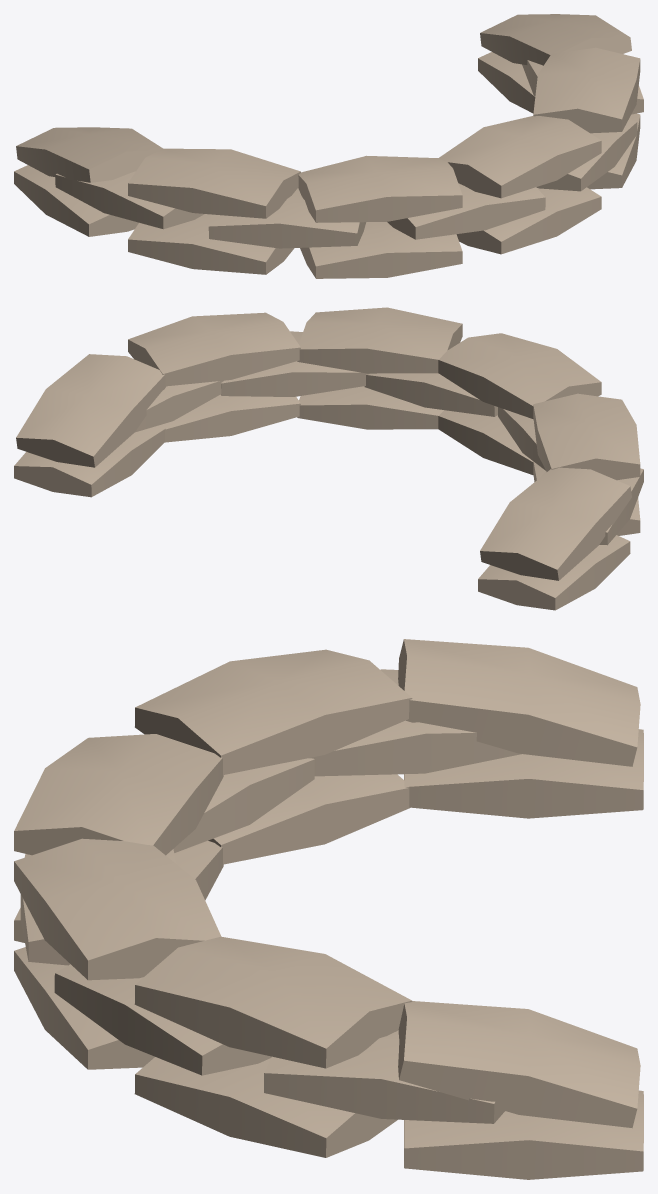
Rendered from fb_FoxholeSandbags.glb.
The picture shows the model from 3 angles, top to bottom: view 1: azimuth 30°, elevation 25°; view 2: azimuth 150°, elevation 25°; view 3: azimuth 270°, elevation 25°; orthographic projection. The views are drawn at different scales.
Visible parts, largest first — view 1: fb_FoxholeSandbags; view 2: fb_FoxholeSandbags; view 3: fb_FoxholeSandbags.
Boxes of the visible parts, left/top/right/bottom form: fb_FoxholeSandbags: left=14, top=14, right=643, bottom=278; fb_FoxholeSandbags: left=14, top=307, right=643, bottom=610; fb_FoxholeSandbags: left=14, top=639, right=643, bottom=1179.
Size of what is drawn, in the model's own units: 2.32 by 0.3505 by 1.44.
